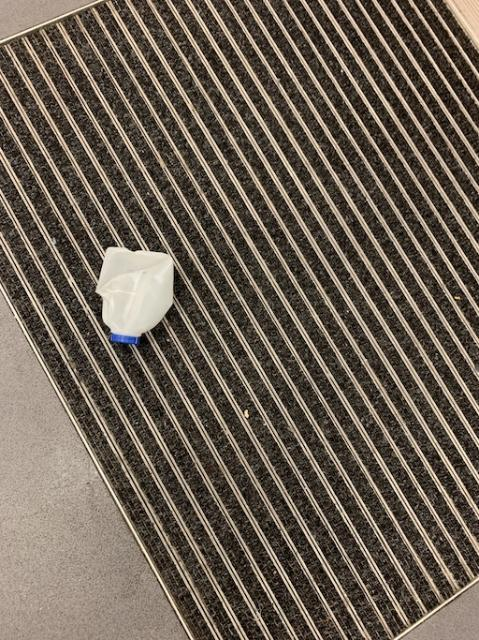plastic: (96, 246, 172, 343)
